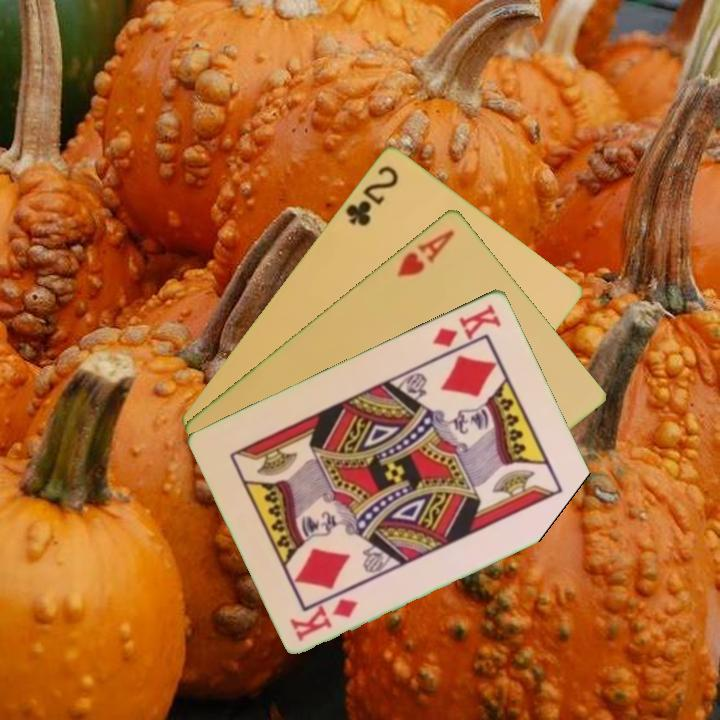2c: (341, 161, 402, 229)
Ah: (393, 225, 458, 280)
Kd: (286, 594, 362, 644), (429, 300, 504, 350)
